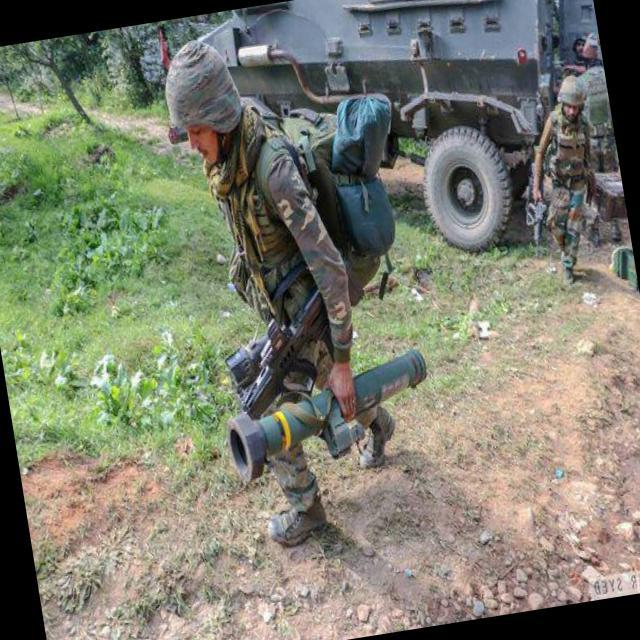rocket: (219, 336, 436, 480)
